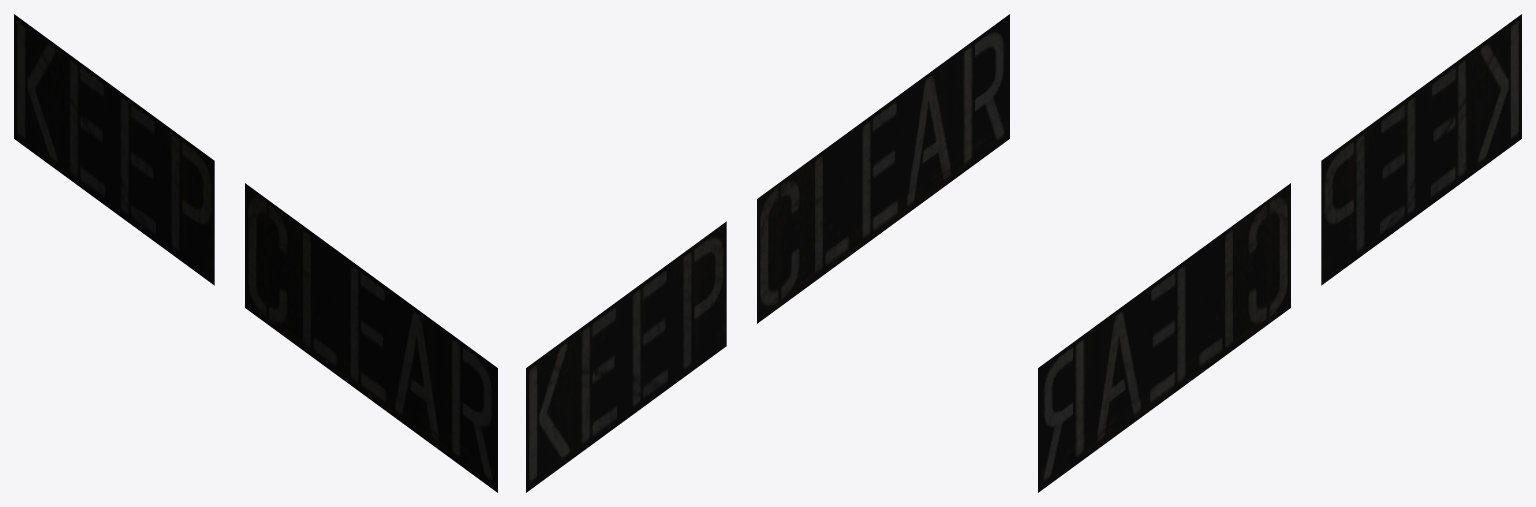
Rendered from DECAL_KEEP CLEAR.fbx.
The picture shows the model from 3 angles, left to right: view 1: azimuth 30°, elevation 25°; view 2: azimuth 150°, elevation 25°; view 3: azimuth 330°, elevation 25°; orthographic projection.
Parts seen in each view (by area): view 1: DECAL_KEEP CLEAR; view 2: DECAL_KEEP CLEAR; view 3: DECAL_KEEP CLEAR.
Boxes of the visible parts, left/top/right/bottom form: DECAL_KEEP CLEAR: left=14, top=14, right=497, bottom=492; DECAL_KEEP CLEAR: left=526, top=14, right=1009, bottom=492; DECAL_KEEP CLEAR: left=1038, top=14, right=1521, bottom=492.
Bounding box in the file's own units: 1.51e-05 × 18.79 × 132.
